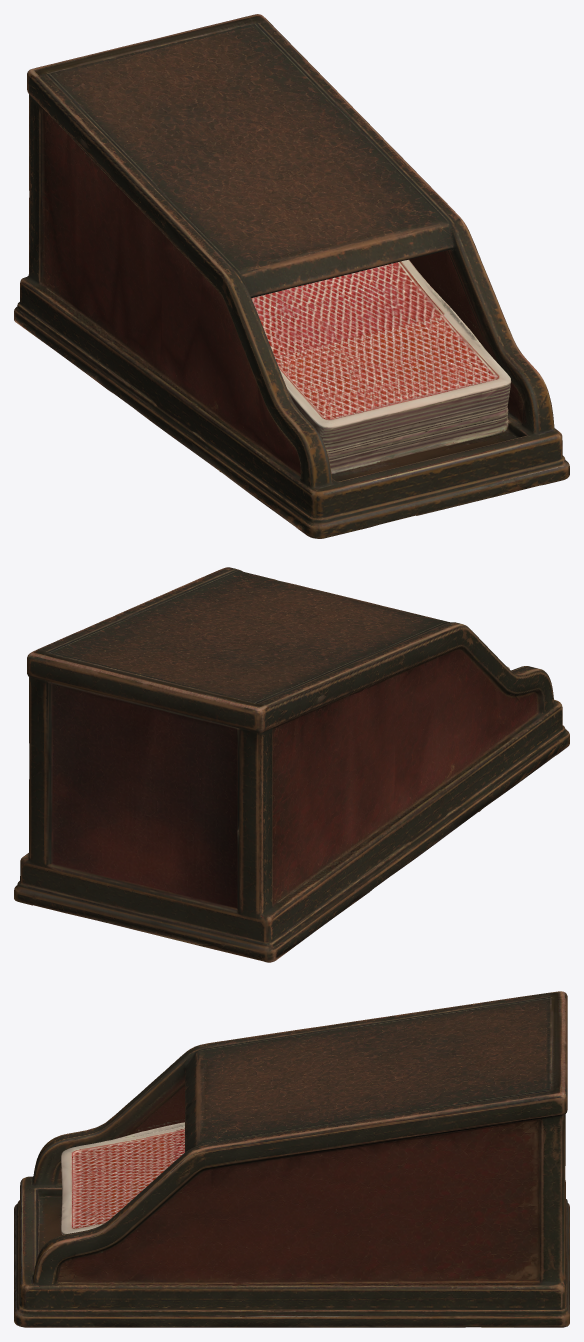
Rendered from Meshy_AI_Antique_Card_Shuffler_0623191816_texture.fbx.
The picture shows the model from 3 angles, top to bottom: view 1: azimuth 30°, elevation 25°; view 2: azimuth 150°, elevation 25°; view 3: azimuth 270°, elevation 25°; orthographic projection. The views are drawn at different scales.
Visible parts, largest first — view 1: Mesh_0; view 2: Mesh_0; view 3: Mesh_0.
Part boxes in pixels (x1=…): Mesh_0: x1=14, y1=14, x2=569, y2=538; Mesh_0: x1=14, y1=567, x2=569, y2=962; Mesh_0: x1=14, y1=991, x2=569, y2=1327.
Bounding box in the file's own units: 94.98 × 86.45 × 191.
1 material, 1 textured.
